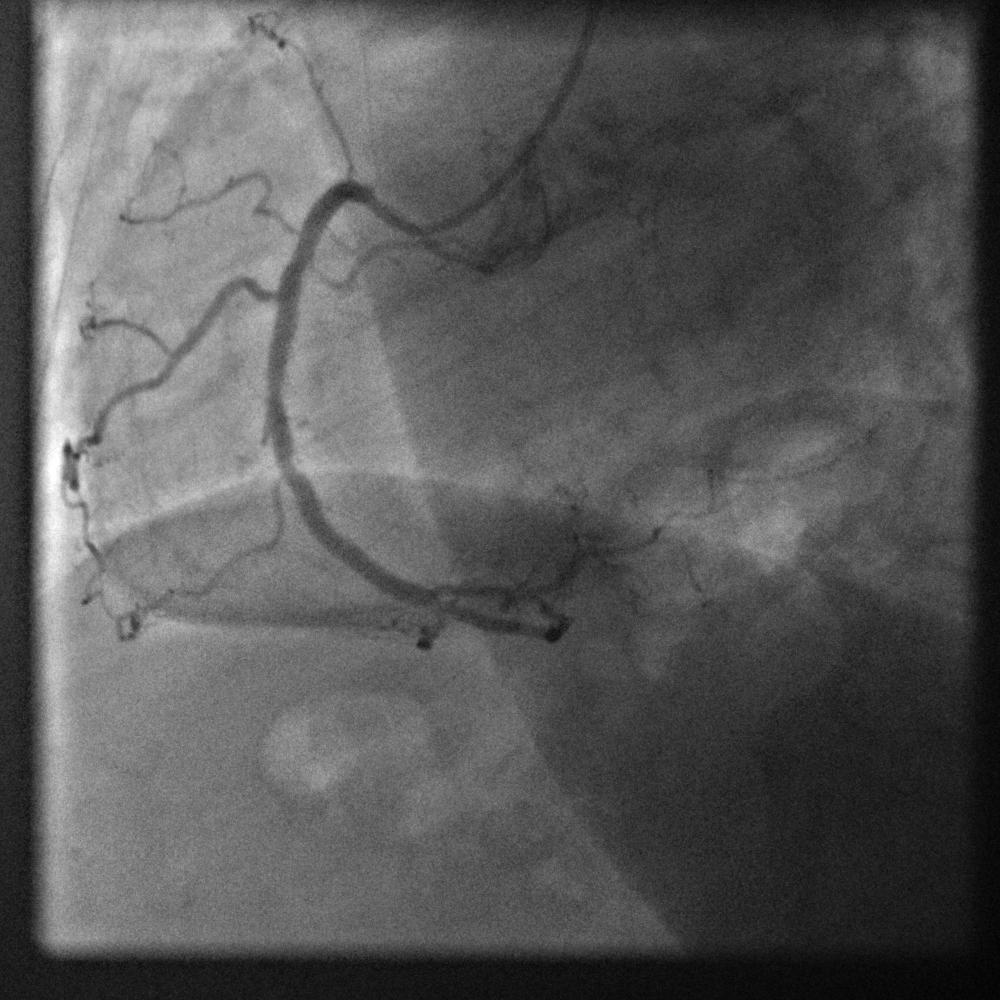Stenosis: (281, 228, 319, 274)
